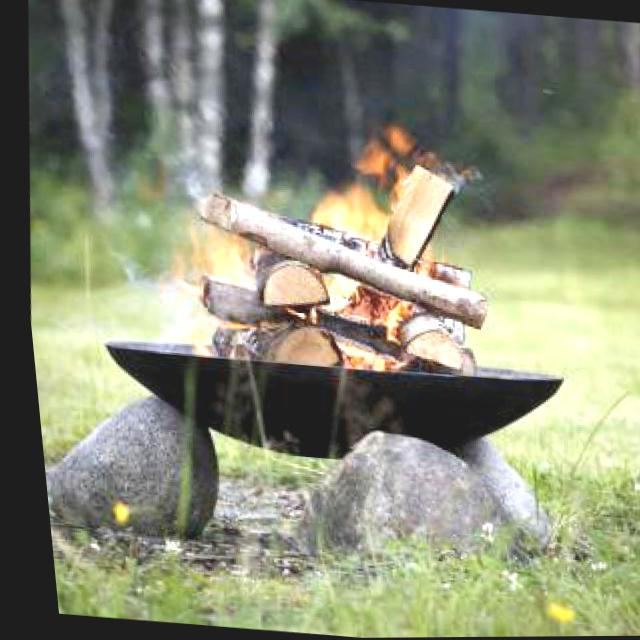helmet: (153, 99, 471, 374)
